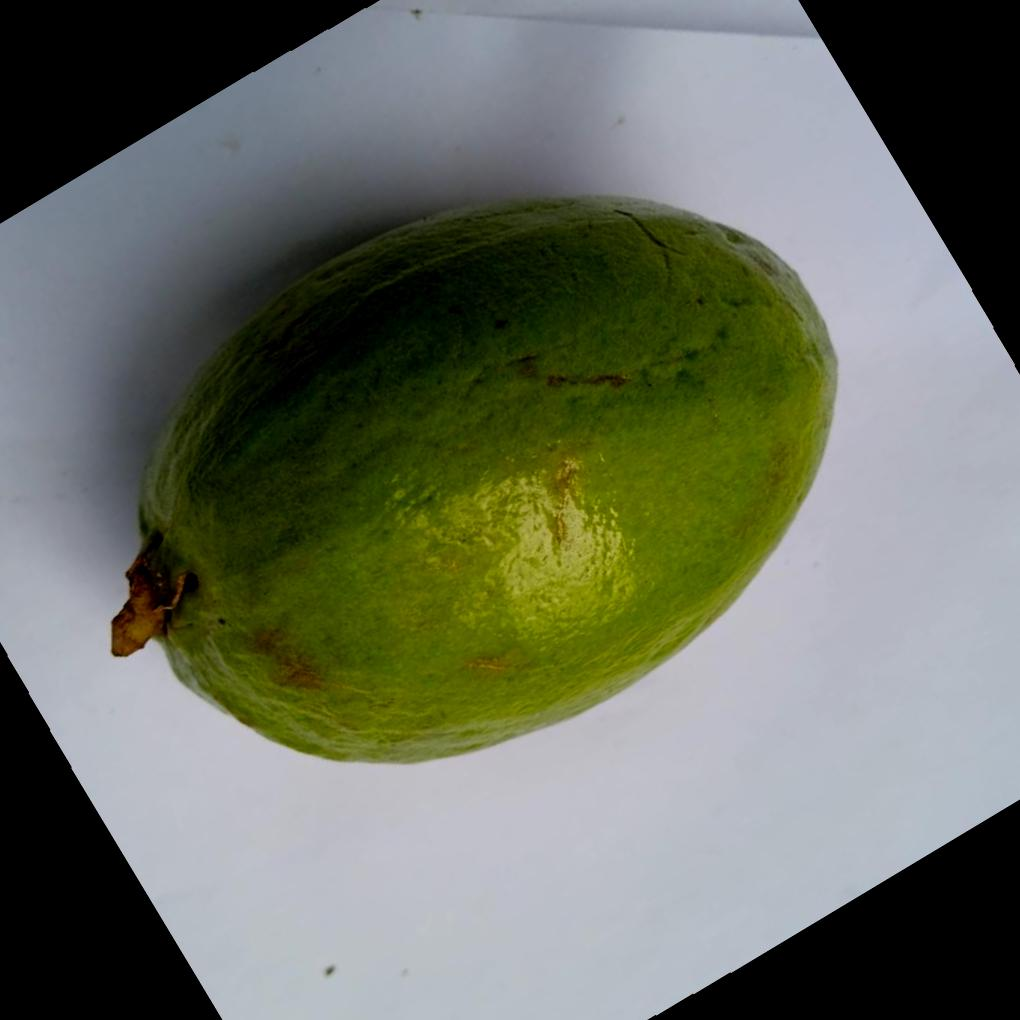FreshGuava: (105, 189, 837, 764)
